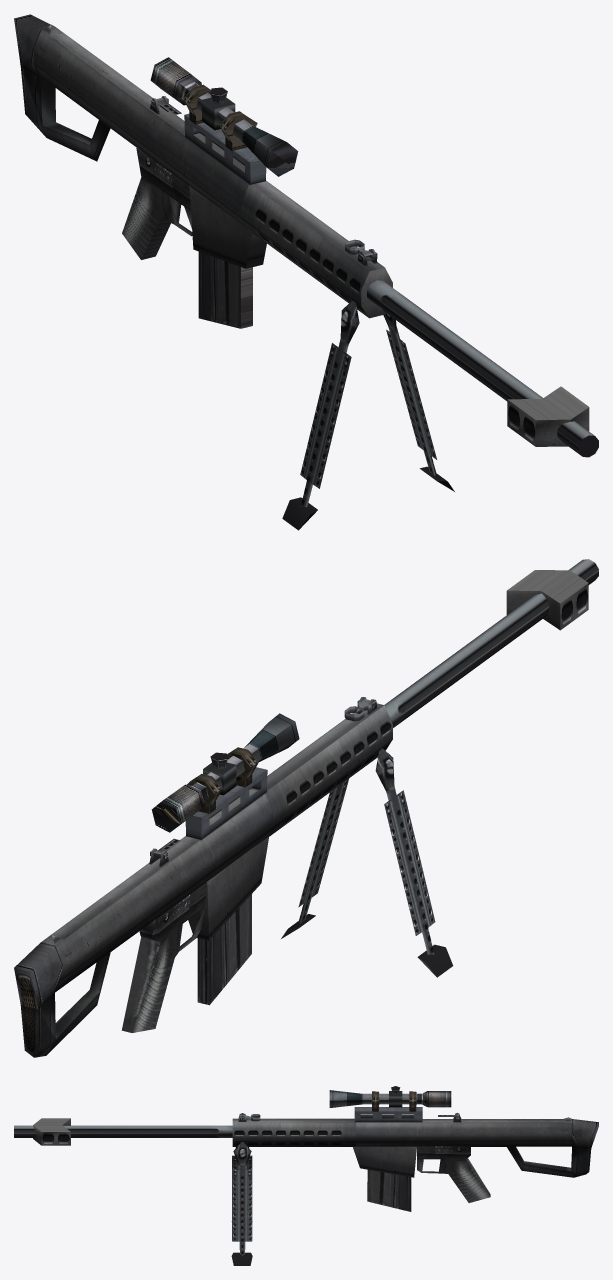
3 views of the same model, one above another, from view 1: azimuth 30°, elevation 25°; view 2: azimuth 150°, elevation 25°; view 3: azimuth 270°, elevation 25° (orthographic). The views are drawn at different scales.
Visible parts, largest first — view 1: _m82_3rd; view 2: _m82_3rd; view 3: _m82_3rd.
Boxes of the visible parts, x1,y1,x2,y2 form: _m82_3rd: [14, 14, 598, 530]; _m82_3rd: [14, 559, 598, 1057]; _m82_3rd: [14, 1086, 598, 1265].
Size of the model in its own units: 0.2201 by 0.4104 by 1.38.
Materials: 2 (2 with a texture image).
